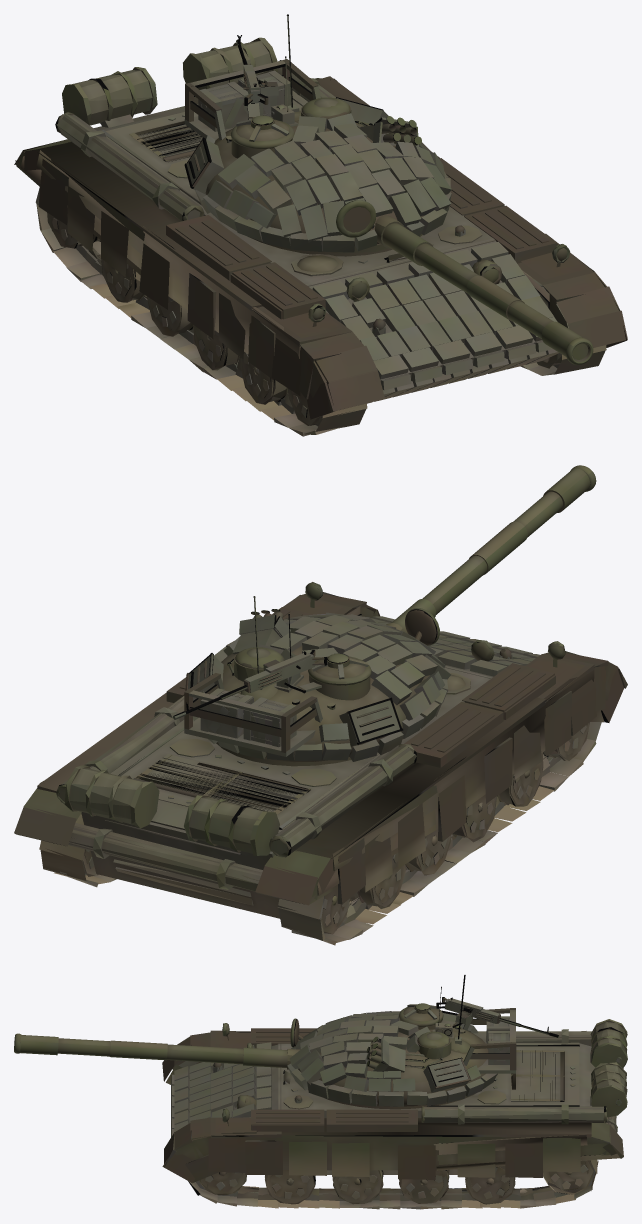
File: tank.glb
3 views of the same model, one above another, from view 1: azimuth 30°, elevation 25°; view 2: azimuth 150°, elevation 25°; view 3: azimuth 270°, elevation 25° (orthographic). The views are drawn at different scales.
Visible parts, largest first — view 1: hull, turret; view 2: hull, turret; view 3: hull, turret.
Part boxes in pixels (x1,y1,x2,y2): hull: [14, 14, 627, 436]; turret: [184, 16, 593, 364]; hull: [14, 582, 627, 945]; turret: [173, 465, 596, 766]; hull: [162, 975, 627, 1209]; turret: [14, 976, 559, 1109].
Bounding box in the file's own units: 3.6 × 3.02 × 8.78.
Materials: 1 (1 with a texture image).
